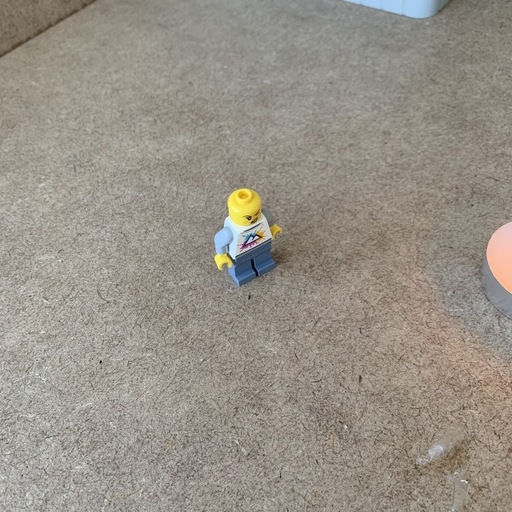human: (210, 185, 286, 286)
